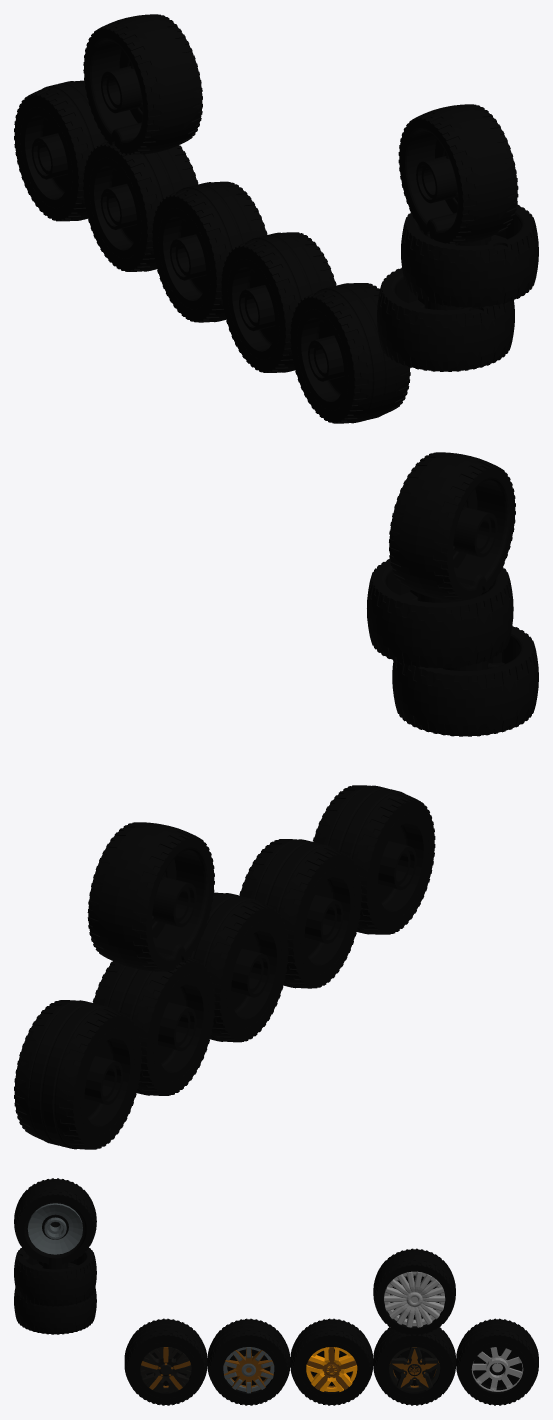
File: Wheel Pack 1.dae
3 renders of one model, top to bottom at view 1: azimuth 30°, elevation 25°; view 2: azimuth 150°, elevation 25°; view 3: azimuth 270°, elevation 25°, orthographic. The views are drawn at different scales.
Parts seen in each view (by area): view 1: Part.16, Part.7, Part.5, Part.1, Part.19, Part.28, Part.23, Part.32, Part.37, Part.35, Part.38, Part.31 (+2 smaller); view 2: Part.16, Part.7, Part.37, Part.5, Part.1, Part.23, Part.19, Part.32, Part.28, Part.22, Part.31, Part.35 (+2 smaller); view 3: Part.5, Part.7, Part.16, Part.23, Part.19, Part.28, Part.37, Part.32, Part.1, Part.6, Part.38, Part.14 (+15 smaller).
Part boxes in pixels (<box>): Part.16: <box>83,14,202,154</box>; Part.7: <box>398,104,518,244</box>; Part.5: <box>401,204,538,307</box>; Part.1: <box>377,267,514,371</box>; Part.19: <box>290,283,410,423</box>; Part.28: <box>152,181,267,322</box>; Part.23: <box>221,232,336,372</box>; Part.32: <box>83,141,198,271</box>; Part.37: <box>14,80,107,221</box>; Part.35: <box>89,157,141,258</box>; Part.38: <box>20,107,72,208</box>; Part.31: <box>158,208,210,309</box>; Part.16: <box>87,822,214,971</box>; Part.7: <box>389,452,515,601</box>; Part.37: <box>14,1000,141,1149</box>; Part.5: <box>367,558,513,668</box>; Part.1: <box>392,625,538,736</box>; Part.23: <box>239,839,361,988</box>; Part.19: <box>313,785,435,934</box>; Part.32: <box>92,957,215,1095</box>; Part.28: <box>189,892,288,1042</box>; Part.22: <box>373,813,428,920</box>; Part.31: <box>226,921,281,1028</box>; Part.35: <box>153,974,208,1081</box>; Part.5: <box>14,1248,96,1306</box>; Part.7: <box>14,1178,96,1264</box>; Part.16: <box>373,1248,455,1334</box>; Part.23: <box>207,1318,290,1405</box>; Part.19: <box>124,1318,207,1405</box>; Part.28: <box>290,1318,373,1405</box>; Part.37: <box>456,1318,538,1405</box>; Part.32: <box>373,1327,455,1405</box>; Part.1: <box>14,1287,96,1334</box>; Part.6: <box>27,1203,82,1254</box>; Part.38: <box>466,1342,528,1398</box>; Part.14: <box>384,1271,445,1327</box>.
Bounding box in the file's own units: 28.8 × 70.4 × 152.
